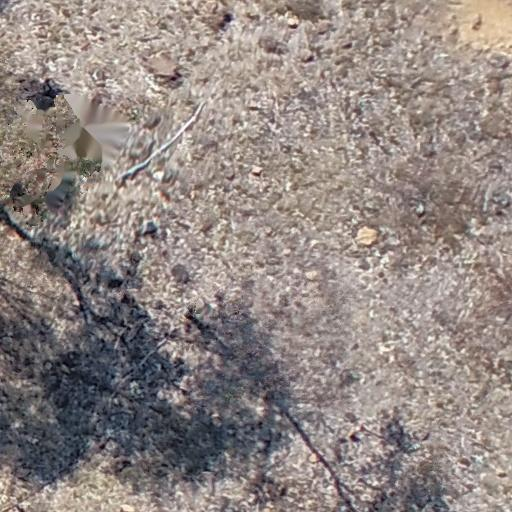stone: (145, 50, 183, 84), (354, 224, 379, 248), (315, 18, 331, 35), (247, 165, 266, 177), (285, 14, 299, 29), (304, 269, 320, 281), (348, 431, 362, 443), (153, 169, 165, 182), (308, 452, 320, 464), (457, 458, 470, 468), (496, 470, 508, 478), (416, 206, 426, 214)
